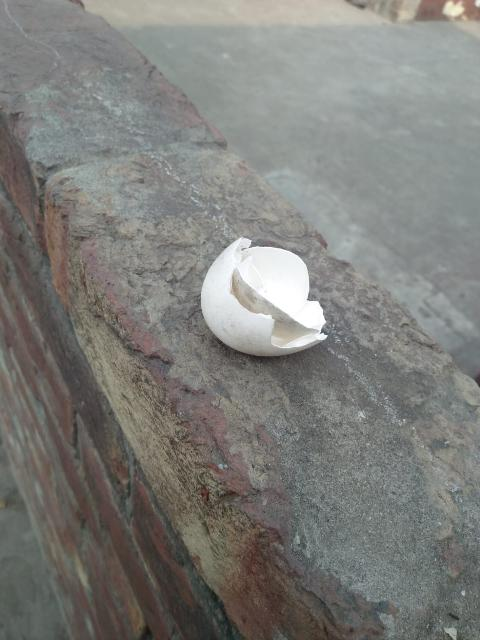Roto: (199, 236, 328, 358)
